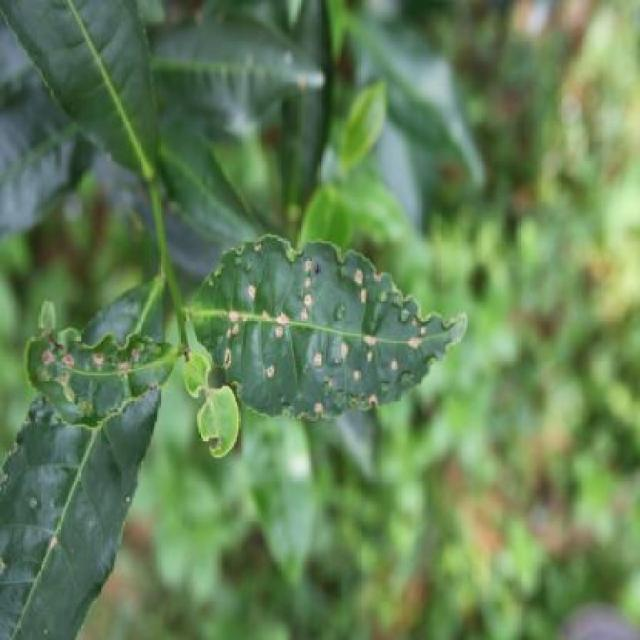Tea Mosquito bug infested leaf: (194, 234, 468, 418), (29, 311, 177, 438)
